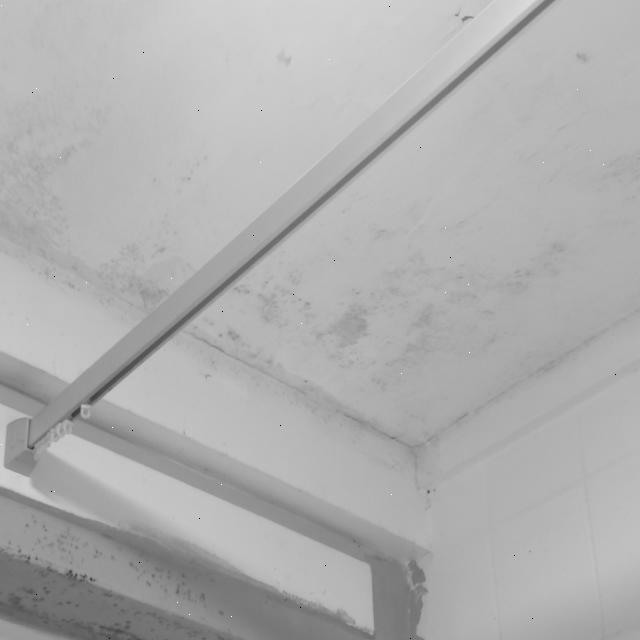stain marks: (198, 252, 575, 498), (0, 46, 206, 338), (0, 496, 247, 640), (346, 185, 508, 270), (598, 118, 640, 245), (560, 28, 608, 94), (523, 213, 573, 276), (409, 474, 454, 544), (266, 36, 305, 80)
